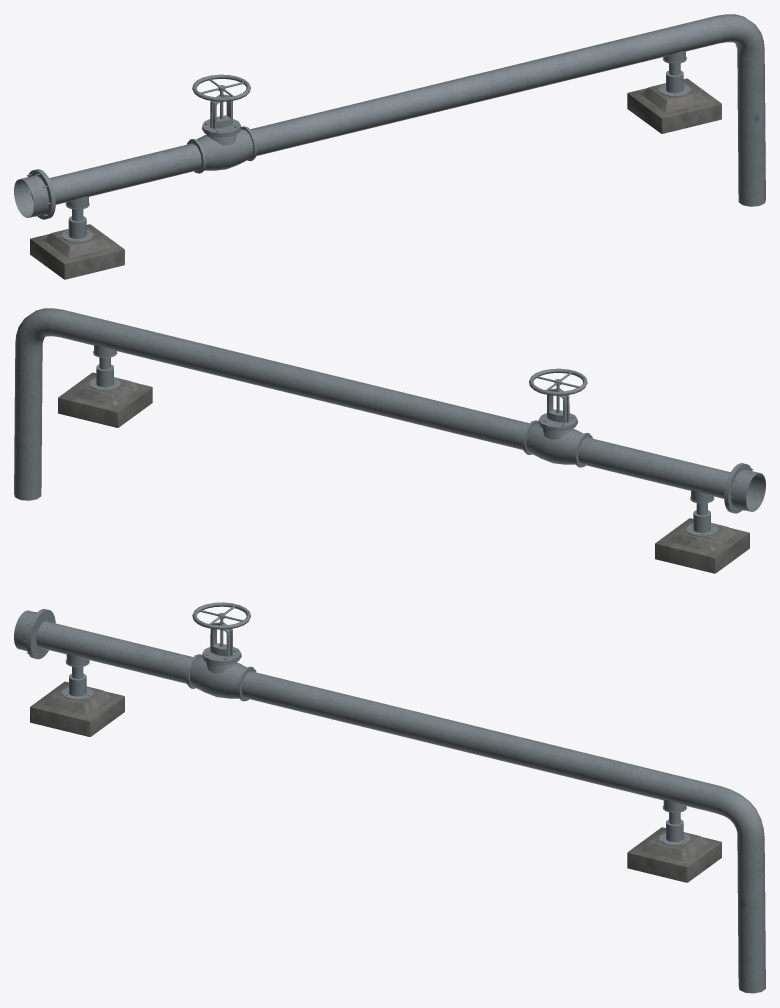
The model's file is SM_FuelPipe_2.fbx.
3 views of the same model, one above another, from view 1: azimuth 30°, elevation 25°; view 2: azimuth 150°, elevation 25°; view 3: azimuth 330°, elevation 25° (orthographic).
Parts seen in each view (by area): view 1: SM_FuelPipe_2_LOD0; view 2: SM_FuelPipe_2_LOD0; view 3: SM_FuelPipe_2_LOD0.
Boxes of the visible parts, x1,y1,x2,y2 form: SM_FuelPipe_2_LOD0: (14, 14, 765, 279); SM_FuelPipe_2_LOD0: (14, 308, 765, 573); SM_FuelPipe_2_LOD0: (14, 602, 765, 993).
Size of the model in its own units: 731 by 60 by 231.
2 materials, 2 textured.
